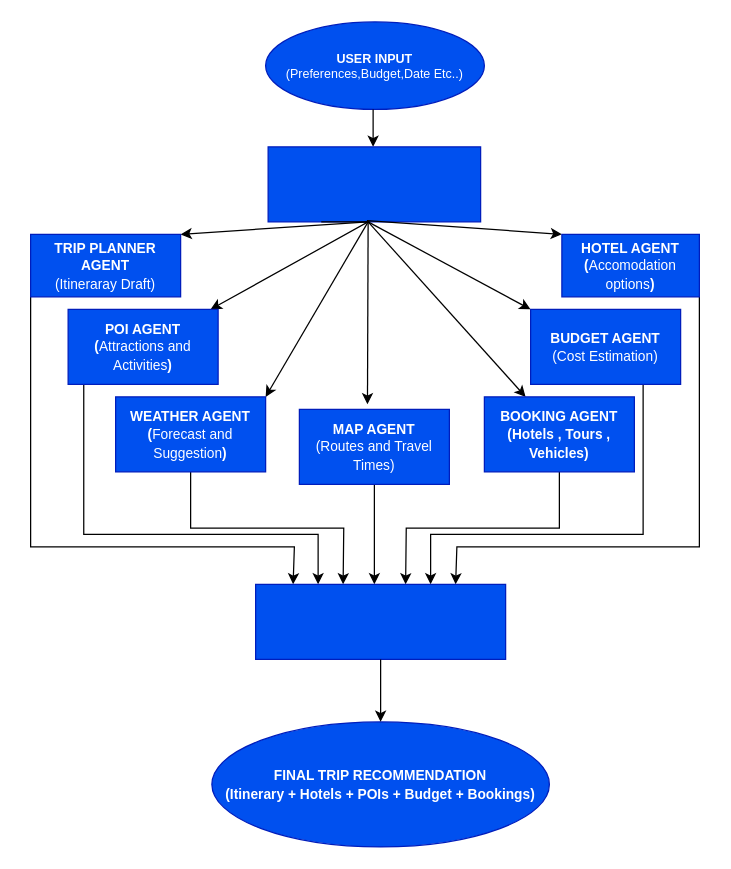
The diagram is 731 pixels wide and 869 high, and some of its shapes have lost their labels. Each missing label, with the centre of its shape:
ORCHESTRATOR AGENT ( Central Coordinator ): the point at 374,184
ORCHESTRATOR AGENT ( Recieves Result From Each Agents ): the point at 380,621
